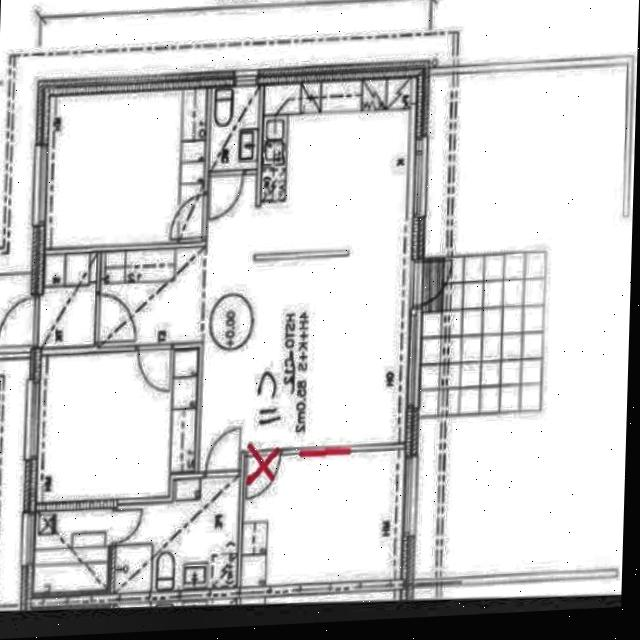room: (38, 90, 212, 248), (31, 349, 205, 501), (237, 451, 400, 586), (110, 477, 242, 590), (34, 509, 107, 593), (206, 82, 261, 174), (43, 252, 95, 349)
